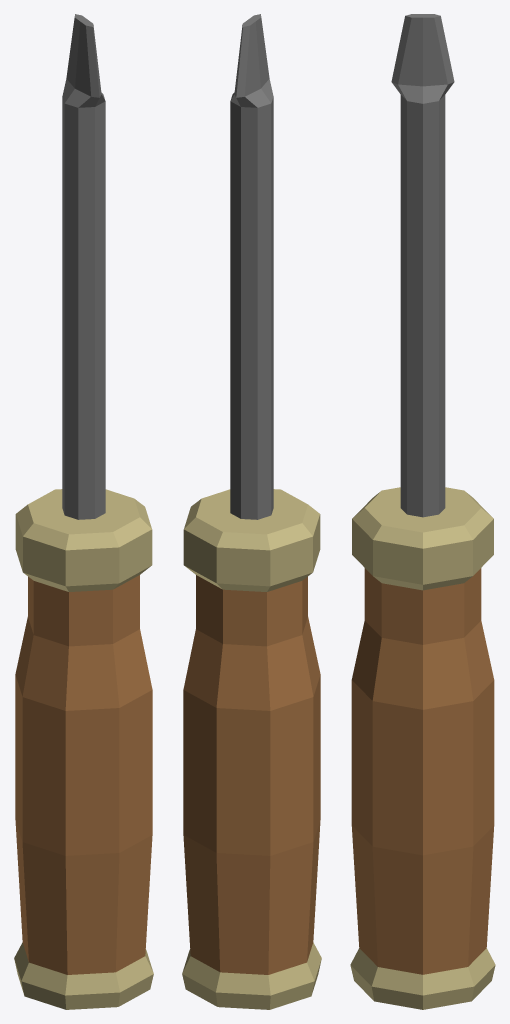
Rendered from Crewdriver.fbx.
3 views of the same model, side by side, from view 1: azimuth 30°, elevation 25°; view 2: azimuth 150°, elevation 25°; view 3: azimuth 270°, elevation 25° (orthographic).
Parts seen in each view (by area): view 1: Tournevis; view 2: Tournevis; view 3: Tournevis.
Boxes of the visible parts, x1,y1,x2,y2 form: Tournevis: (14, 14, 153, 1009); Tournevis: (182, 14, 321, 1009); Tournevis: (350, 14, 495, 1009).
Size of the model in its own units: 55.18 by 405 by 55.18.
